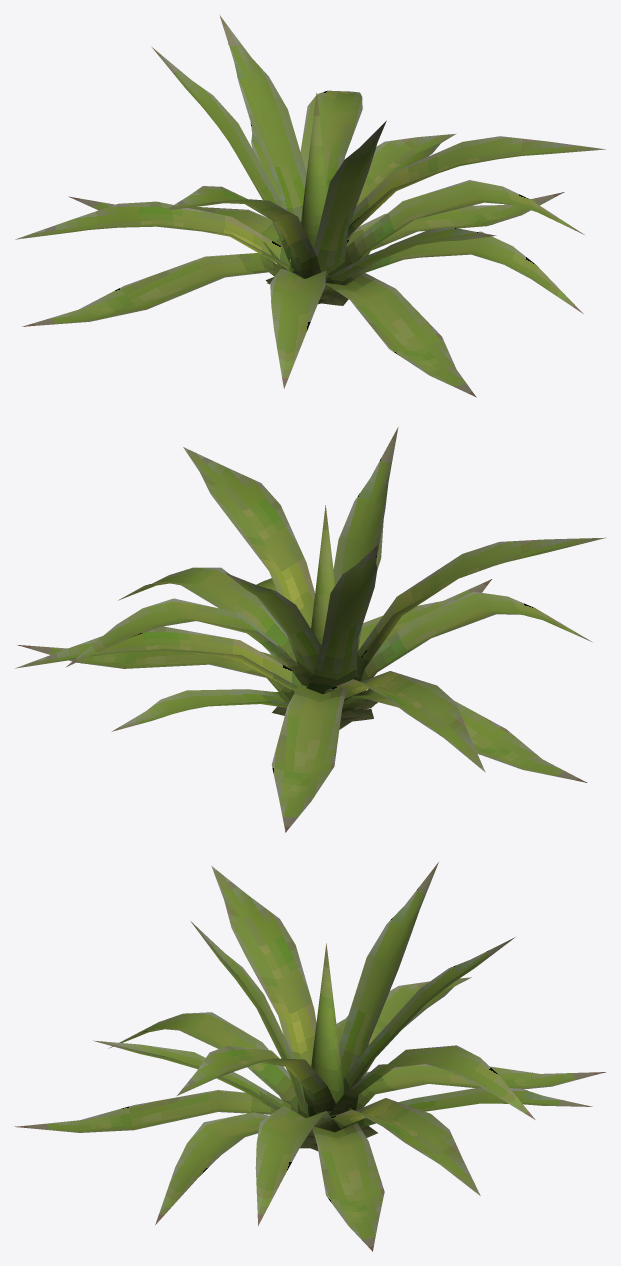
The model's file is plants_un_agave01.gltf.
3 renders of one model, top to bottom at view 1: azimuth 30°, elevation 25°; view 2: azimuth 150°, elevation 25°; view 3: azimuth 270°, elevation 25°, orthographic. The views are drawn at different scales.
Parts seen in each view (by area): view 1: plants_un_agave01; view 2: plants_un_agave01; view 3: plants_un_agave01.
Boxes of the visible parts, box(x1,y1,x2,y2) form: plants_un_agave01: box(15, 15, 605, 397); plants_un_agave01: box(15, 427, 606, 832); plants_un_agave01: box(15, 862, 605, 1251).
Size of what is drawn, in the model's own units: 3.41 by 1.45 by 3.29.
Materials: 1 (1 with a texture image).
